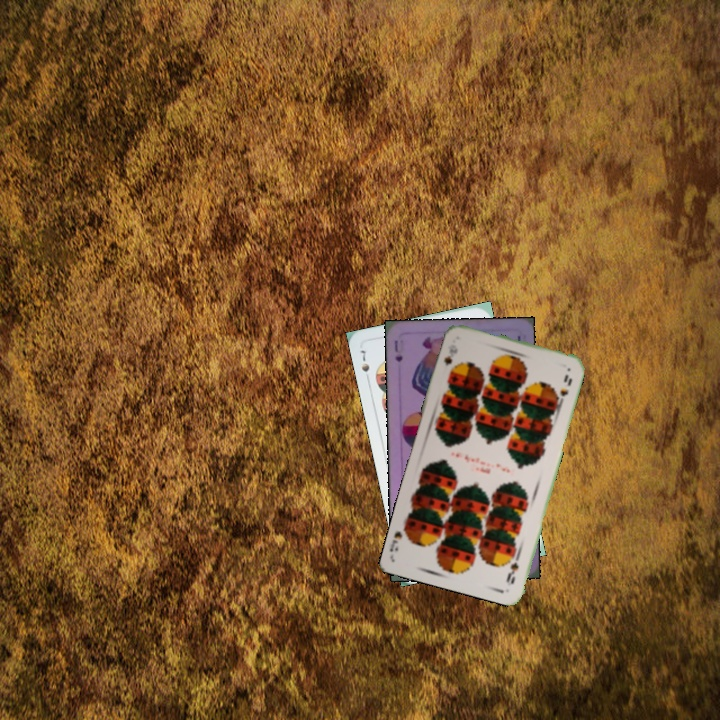S7: (355, 346, 372, 374)
S9: (503, 549, 523, 587), (440, 340, 460, 369)
SU: (390, 336, 405, 365)
